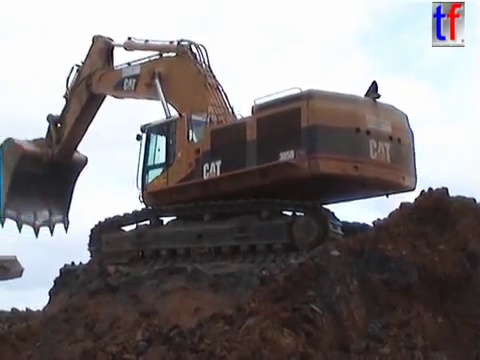excavator: (1, 31, 422, 281)
truck: (1, 252, 27, 284)
